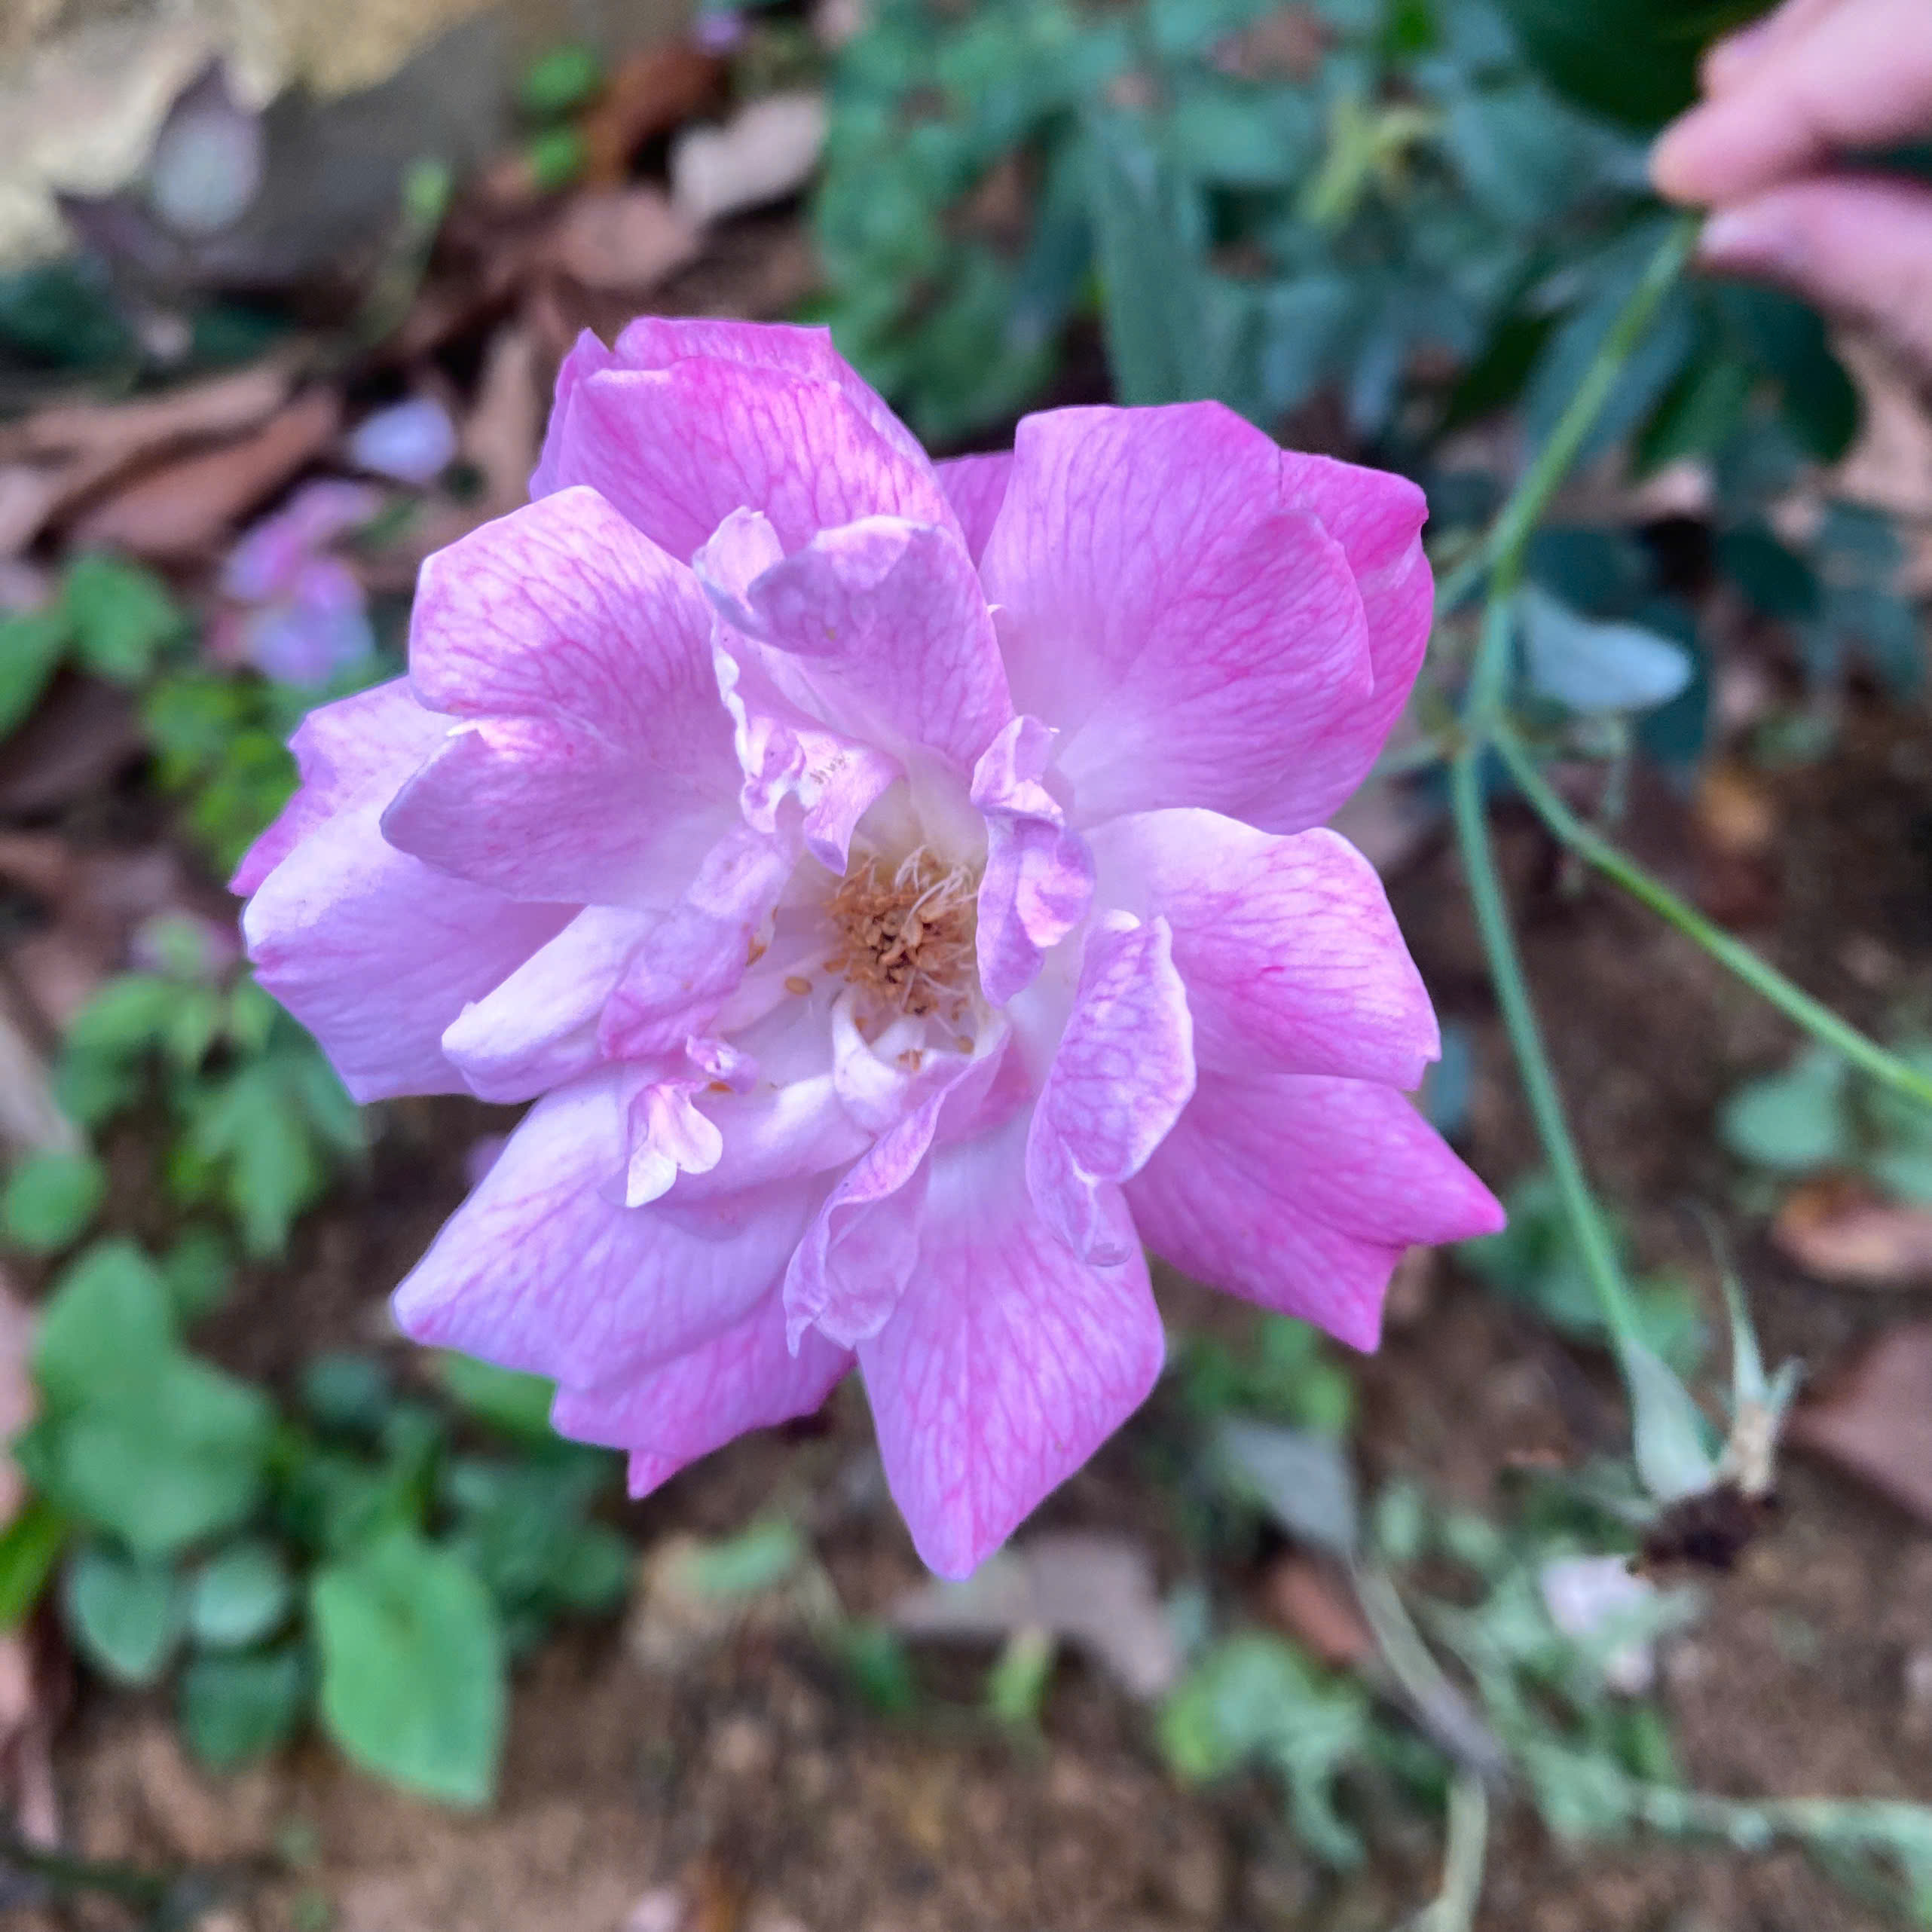hoa_hong_phan: (161, 260, 1640, 1610)
